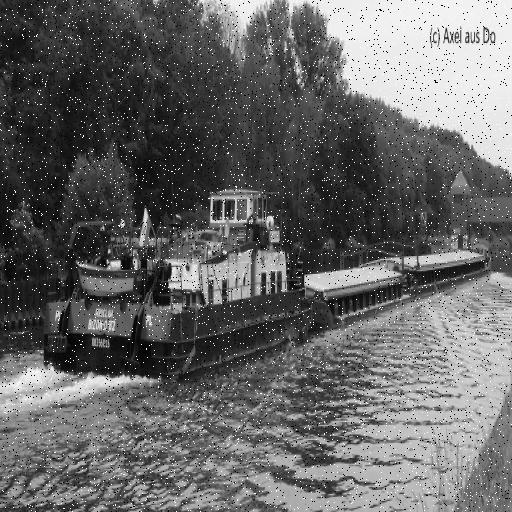tugboat: (41, 178, 336, 383)
